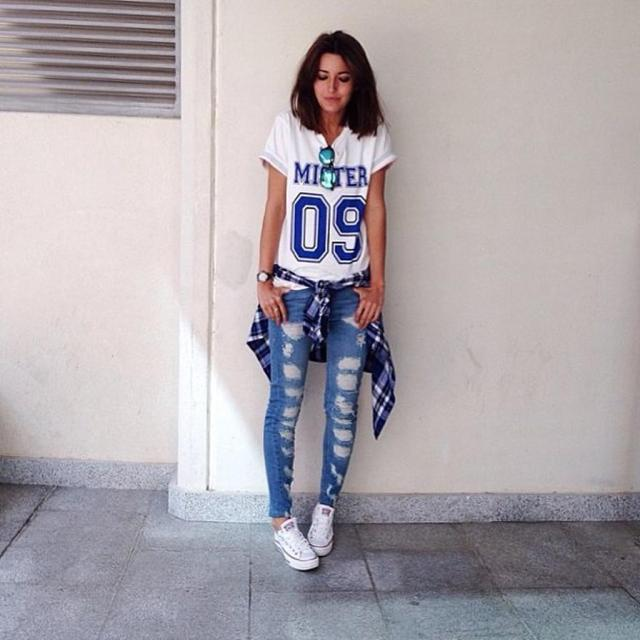Face: (308, 45, 359, 120)
